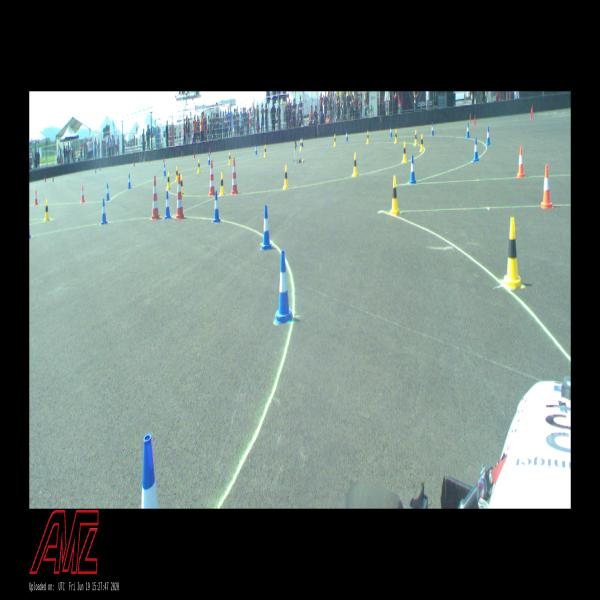blue_cone: (141, 434, 158, 509), (276, 250, 292, 323), (261, 206, 273, 250), (213, 190, 221, 222), (165, 191, 172, 219), (409, 155, 416, 183), (101, 199, 107, 224), (473, 138, 479, 162), (106, 183, 110, 201), (466, 123, 470, 138), (487, 126, 490, 146), (128, 174, 131, 189), (431, 123, 434, 136), (164, 164, 167, 176), (208, 153, 210, 165), (390, 125, 392, 137), (29, 226, 31, 237), (256, 144, 258, 155), (346, 130, 348, 141), (302, 136, 303, 147)
large_orange_cone: (174, 173, 186, 220), (150, 176, 161, 220), (230, 157, 238, 195), (208, 160, 215, 196)
orange_cone: (540, 164, 554, 208), (517, 146, 525, 178), (81, 185, 85, 202), (34, 190, 38, 205)
unknown_cone: (530, 110, 532, 120)
yellow_cone: (502, 218, 524, 288), (390, 176, 399, 215), (283, 164, 289, 189), (352, 152, 358, 176), (44, 200, 50, 221), (402, 142, 407, 163), (220, 172, 224, 195), (166, 172, 171, 190), (180, 175, 184, 194), (420, 134, 424, 151), (175, 166, 178, 182), (414, 130, 417, 146), (395, 129, 398, 143), (264, 145, 267, 156), (198, 159, 200, 173), (367, 130, 369, 144), (229, 152, 231, 164), (300, 139, 302, 151), (334, 134, 336, 146)
